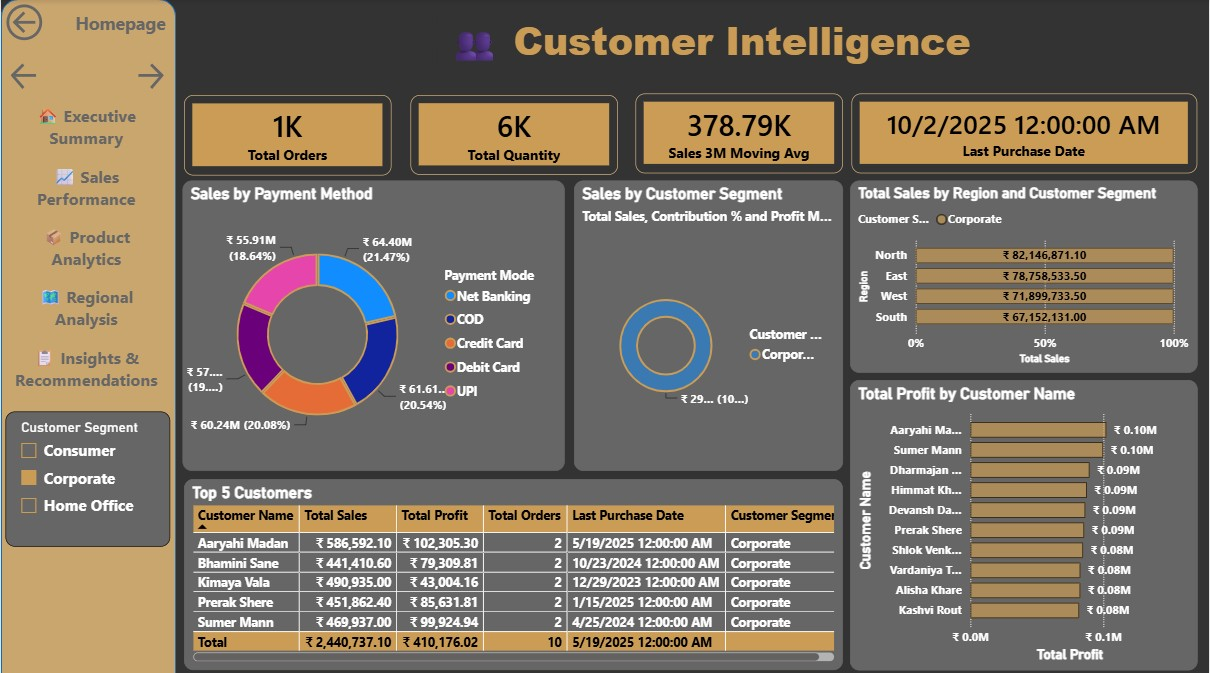

The page's visual inventory and layout, read from the dashboard file:
{"tool":"powerbi","page":{"name":"👥 Customer Intelligence","canvas":[1280,720],"ordinal":3},"visuals":[{"type":"shape","box":[0,0,185.6,1000.8],"z":0},{"type":"cardVisual","fields":{"Data":["Measures (2).Total Orders"]},"box":[193.6,101.6,220,85],"z":1000},{"type":"clusteredBarChart","fields":{"Category":["India Ecommerce Sales Data (2024 - 2025).Customer Name"],"Y":["Measures (2).Total Profit"]},"box":[899.8,403.6,368.5,307.9],"z":2000},{"type":"tableEx","title":"Top 5 Customers","fields":{"Values":["Ecommerce_Sales_Data_2024_2025.Customer Name","Measures (2).Total Sales","Measures (2).Total Profit","Measures (2).Total Orders","Measures (2).Last Purchase Date","Ecommerce_Sales_Data_2024_2025.Customer Segment"]},"box":[194.6,508.9,698.8,202.6],"z":3000},{"type":"donutChart","title":"Sales by Customer Segment","fields":{"Y":["Measures (2).Total Sales"],"Category":["India Ecommerce Sales Data (2024 - 2025).Customer Segment"]},"box":[607.8,193,285.6,307.9],"z":4000},{"type":"textbox","title":"👥 Customer Intelligence","box":[462.7,16,577.5,59],"z":5000},{"type":"donutChart","title":"Sales by Payment Method","fields":{"Category":["India Ecommerce Sales Data (2024 - 2025).Payment Mode"],"Y":["Measures (2).Total Sales"]},"box":[193,193,405,307.9],"z":6000},{"type":"cardVisual","fields":{"Data":["Measures (2).Total Quantity"]},"box":[433.9,102.1,220.2,84.6],"z":7000},{"type":"hundredPercentStackedBarChart","fields":{"Category":["India Ecommerce Sales Data (2024 - 2025).Region"],"Y":["Measures (2).Total Sales"],"Series":["India Ecommerce Sales Data (2024 - 2025).Customer Segment"]},"box":[899.8,193,368.5,204.2],"z":8000},{"type":"slicer","fields":{"Values":["Ecommerce_Sales_Data_2024_2025.Customer Segment"]},"box":[4.8,437.4,175,143.2],"z":9000},{"type":"cardVisual","fields":{"Data":["Measures (2).Sales 3M Moving Avg"]},"box":[673.2,100.5,220.2,84.6],"z":10000},{"type":"cardVisual","fields":{"Data":["Measures (2).Last Purchase Date"]},"box":[901.4,100.5,366.9,84.6],"z":11000},{"type":"actionButton","box":[0,0,178.7,49.5],"z":12000},{"type":"actionButton","box":[6.4,63.6,44.5,36.6],"z":13000},{"type":"actionButton","box":[140,63.6,50.9,36.6],"z":14000},{"type":"pageNavigator","box":[0,103.4,181.3,322.9],"z":15000}]}

Visuals, with their boxes on the page's 1280x720 design canvas (x1, y1, x2, y2). These are canvas units, not pixel positions in the 1210x673 screenshot, which may show the page scaled, cropped or inside an application window:
shape: (x1=0, y1=0, x2=186, y2=1001)
cardVisual - Measures (2).Total Orders: (x1=194, y1=102, x2=414, y2=187)
clusteredBarChart - India Ecommerce Sales Data (2024 - 2025).Customer Name x Measures (2).Total Profit: (x1=900, y1=404, x2=1268, y2=712)
"Top 5 Customers" tableEx: (x1=195, y1=509, x2=893, y2=712)
"Sales by Customer Segment" donutChart: (x1=608, y1=193, x2=893, y2=501)
"👥 Customer Intelligence" textbox: (x1=463, y1=16, x2=1040, y2=75)
"Sales by Payment Method" donutChart: (x1=193, y1=193, x2=598, y2=501)
cardVisual - Measures (2).Total Quantity: (x1=434, y1=102, x2=654, y2=187)
hundredPercentStackedBarChart - India Ecommerce Sales Data (2024 - 2025).Region x Measures (2).Total Sales: (x1=900, y1=193, x2=1268, y2=397)
slicer - Ecommerce_Sales_Data_2024_2025.Customer Segment: (x1=5, y1=437, x2=180, y2=581)
cardVisual - Measures (2).Sales 3M Moving Avg: (x1=673, y1=100, x2=893, y2=185)
cardVisual - Measures (2).Last Purchase Date: (x1=901, y1=100, x2=1268, y2=185)
actionButton: (x1=0, y1=0, x2=179, y2=50)
actionButton: (x1=6, y1=64, x2=51, y2=100)
actionButton: (x1=140, y1=64, x2=191, y2=100)
pageNavigator: (x1=0, y1=103, x2=181, y2=426)
